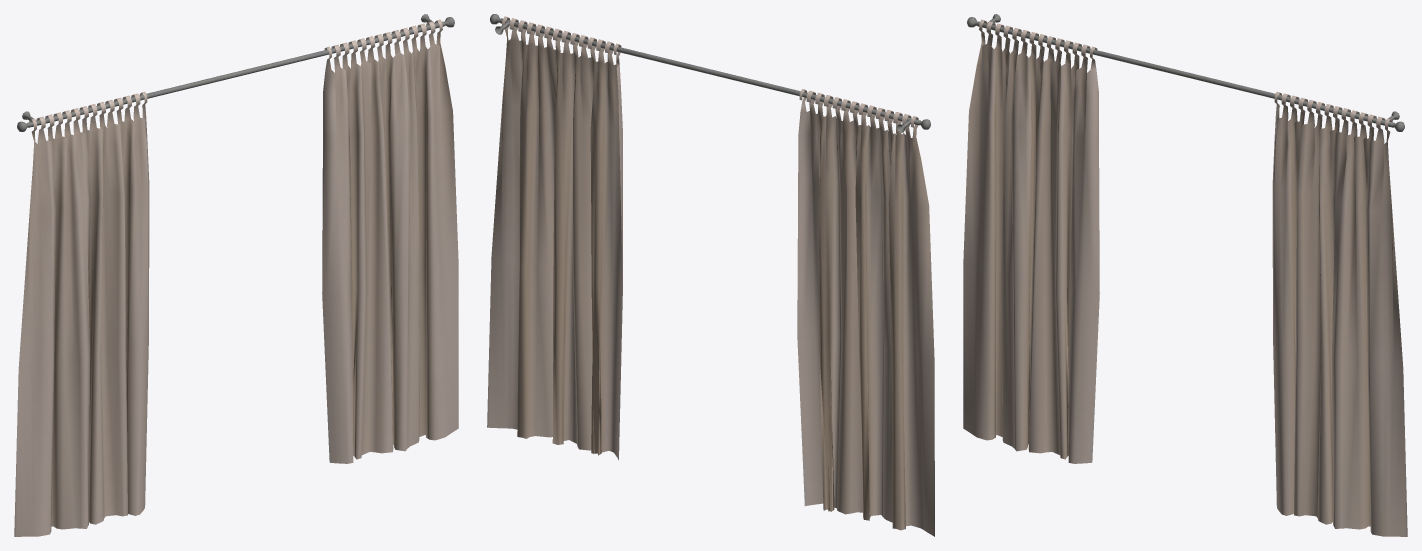
Rendered from Curtains_House_A.FBX.
3 views of the same model, side by side, from view 1: azimuth 30°, elevation 25°; view 2: azimuth 150°, elevation 25°; view 3: azimuth 330°, elevation 25° (orthographic).
Parts seen in each view (by area): view 1: Curtains_House_A; view 2: Curtains_House_A; view 3: Curtains_House_A.
Boxes of the visible parts, x1,y1,x2,y2 form: Curtains_House_A: [14, 14, 458, 536]; Curtains_House_A: [487, 14, 934, 536]; Curtains_House_A: [963, 14, 1407, 536].
Bounding box in the file's own units: 269 × 240 × 21.65.
